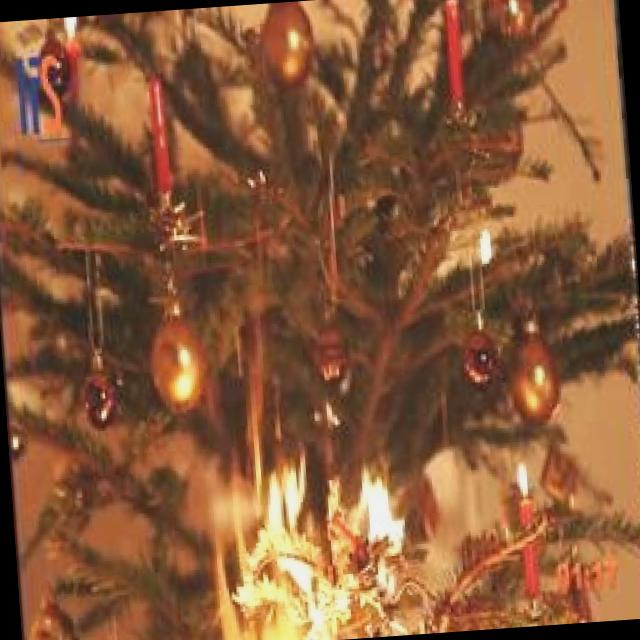fire: (188, 432, 438, 580)
